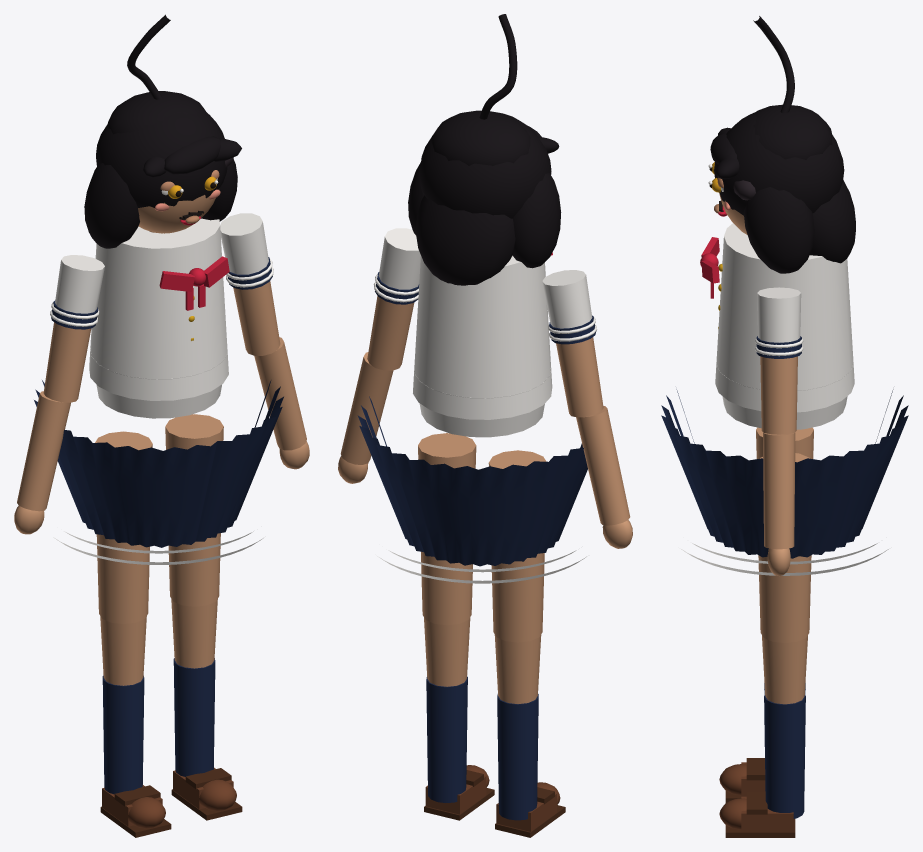
Rendered from star-rai-wip.glb.
The picture shows the model from 3 angles, left to right: view 1: azimuth 30°, elevation 25°; view 2: azimuth 150°, elevation 25°; view 3: azimuth 270°, elevation 25°; orthographic projection.
Parts seen in each view (by area): view 1: shirt, skirt, hairCap, thighL, thighR, sockR, sockL, foreR, sideR, foreL, armR, shinL (+20 smaller); view 2: shirt, skirt, hairCap, hairBack, thighL, sockR, sockL, thighR, hairCrown, foreR, sideR, foreL (+14 smaller); view 3: skirt, shirt, hairCap, sideL, sockL, thighL, foreL, hairCrown, armL, shinL, hairBack, sleeveL (+12 smaller).
Part boxes in pixels (x1,y1,x2,y2): shirt: (89,218,228,400); skirt: (34,380,283,547); hairCap: (96,112,227,207); thighL: (165,414,223,606); thighR: (95,431,152,623); sockR: (102,675,144,794); sockL: (173,658,215,776); foreR: (17,391,70,511); sideR: (84,163,139,248); foreL: (254,337,306,450); armR: (43,322,91,402); shinL: (171,599,217,668); shirt: (413,255,552,419); skirt: (357,396,587,566); hairCap: (419,111,551,218); hairBack: (415,195,515,285); thighL: (418,433,476,625); sockR: (497,694,538,820); sockL: (426,676,467,802); thighR: (488,450,546,642); hairCrown: (430,110,530,165); foreR: (576,406,630,525); sideR: (512,173,561,268); foreL: (340,352,393,464); skirt: (661,389,908,558); shirt: (715,223,854,412); hairCap: (714,112,844,215); sideL: (743,187,814,273); sockL: (764,695,805,818); thighL: (758,453,811,642); foreL: (763,432,795,549); hairCrown: (753,104,832,159); armL: (760,356,797,434); shinL: (762,635,807,704); hairBack: (810,180,855,263); sleeveL: (757,287,801,342).
Bounding box in the file's own units: 0.5792 × 1.51 × 0.4259.
